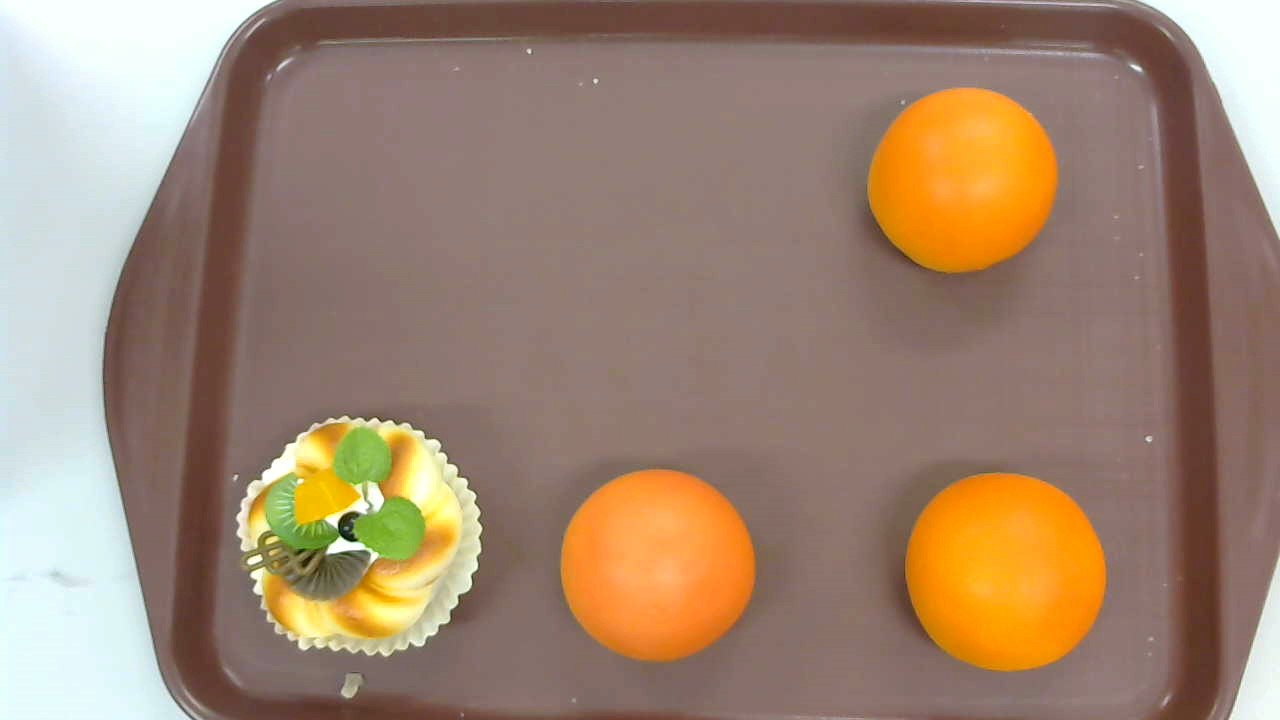bun: (903, 471, 1108, 672), (560, 470, 756, 659), (867, 85, 1057, 275)
fruit tart: (235, 414, 483, 657)
